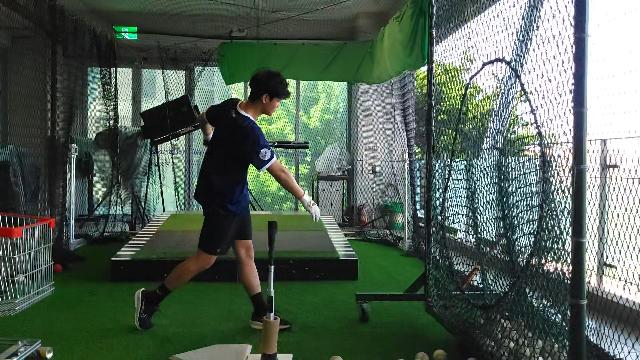bat: (269, 140, 309, 150)
